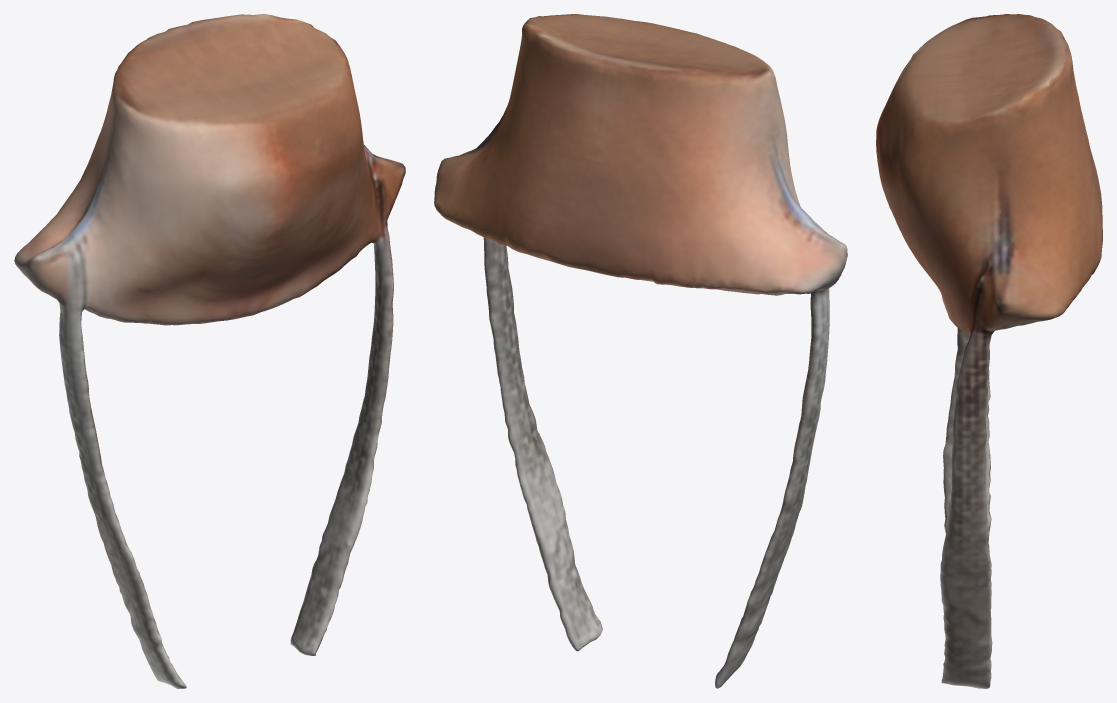
The model's file is cadenax4.glb.
3 views of the same model, side by side, from view 1: azimuth 30°, elevation 25°; view 2: azimuth 150°, elevation 25°; view 3: azimuth 270°, elevation 25° (orthographic). The views are drawn at different scales.
Parts seen in each view (by area): view 1: mesh; view 2: mesh; view 3: mesh.
Boxes of the visible parts, x1,y1,x2,y2 form: mesh: (14,14,405,688); mesh: (434,14,847,688); mesh: (876,14,1102,688).
Size of the model in its own units: 1.25 by 1.92 by 0.6449.
Materials: 1 (1 with a texture image).
